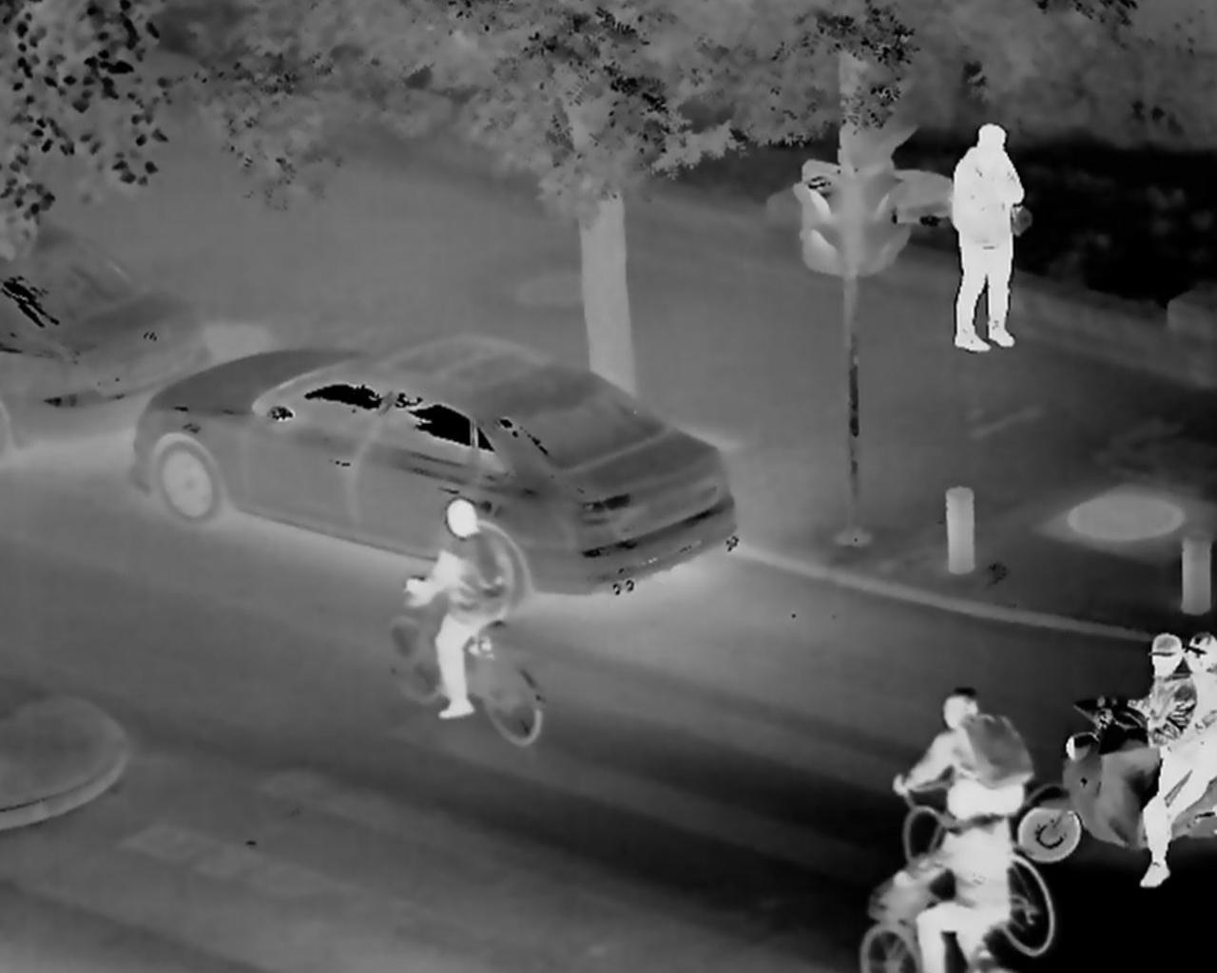person: (907, 687, 1058, 919), (393, 490, 527, 735), (908, 781, 1030, 973), (943, 119, 1019, 370), (1118, 620, 1190, 876), (1188, 628, 1217, 805)
